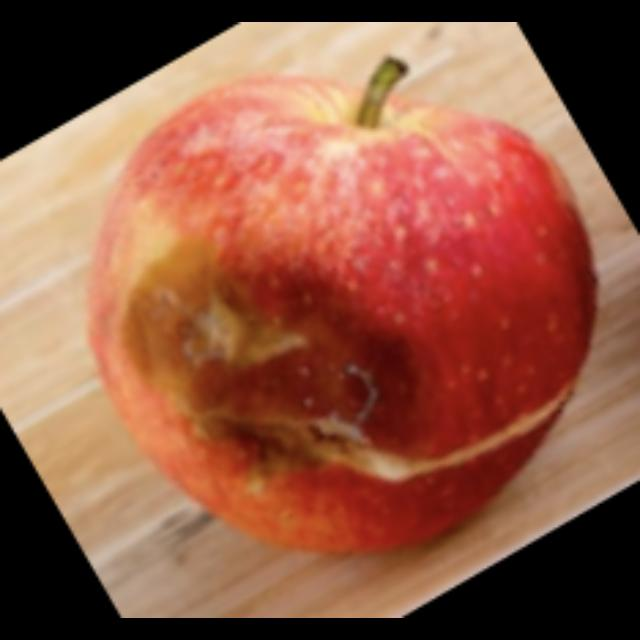Apel Tidak Segar: (90, 68, 602, 558)
